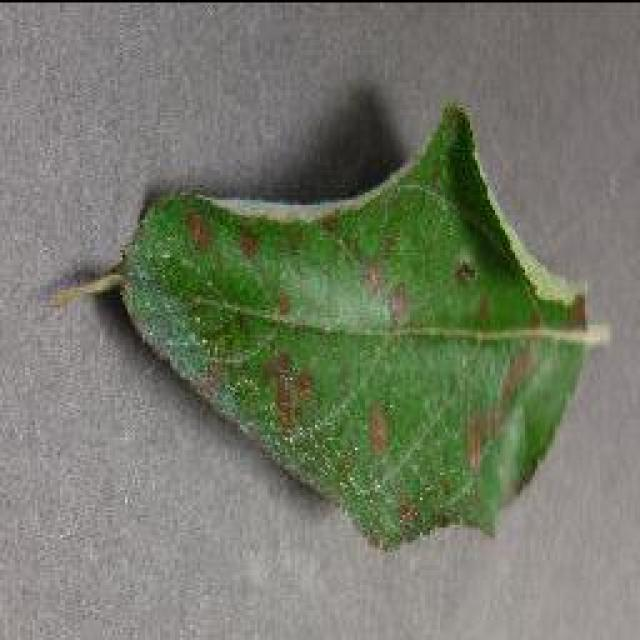apple healthy: (50, 98, 610, 552)
